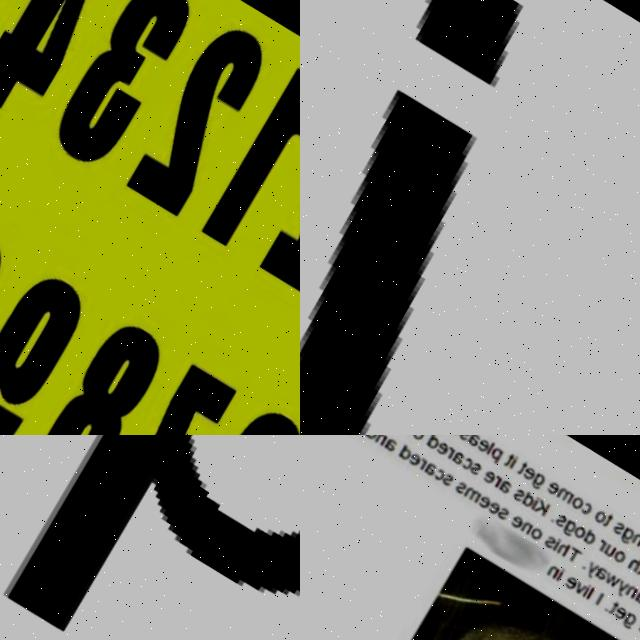1: (174, 51, 300, 266)
2: (101, 4, 295, 227)
3: (27, 0, 220, 181)
4: (0, 0, 149, 144)
5: (0, 0, 79, 92)
7: (55, 340, 259, 435)
8: (0, 298, 188, 435)
9: (0, 241, 115, 435)
A: (379, 437, 397, 456), (420, 463, 437, 480), (495, 481, 511, 498), (448, 453, 465, 469), (589, 569, 605, 585), (463, 435, 480, 450), (628, 594, 640, 610)
C: (575, 505, 593, 521), (458, 459, 472, 473), (431, 470, 445, 484)
D: (578, 532, 596, 551), (517, 493, 534, 511), (395, 446, 413, 463), (423, 435, 440, 452), (361, 435, 378, 442)
E: (404, 453, 422, 470), (542, 484, 559, 501), (473, 440, 490, 457), (607, 609, 624, 626), (518, 468, 534, 485), (479, 472, 495, 489), (432, 442, 448, 459), (505, 517, 522, 533), (484, 502, 500, 519), (474, 497, 491, 513), (558, 578, 574, 595), (630, 624, 640, 640), (445, 435, 462, 439)
G: (615, 615, 634, 635), (614, 531, 633, 549), (527, 475, 545, 494), (557, 522, 575, 541)
H: (622, 560, 639, 578), (552, 544, 568, 561)
I: (300, 0, 627, 435), (506, 459, 518, 473), (526, 500, 537, 513), (577, 588, 588, 601), (589, 597, 600, 610), (551, 572, 561, 585), (548, 542, 558, 554), (636, 568, 640, 581)
K: (530, 501, 548, 520)
L: (483, 444, 494, 458), (580, 590, 591, 604)
M: (553, 490, 573, 509), (459, 488, 480, 506)
N: (541, 567, 557, 584), (619, 588, 634, 603), (626, 536, 640, 551), (517, 524, 530, 538), (373, 435, 386, 447)
O: (566, 498, 583, 515), (608, 552, 624, 569), (589, 513, 605, 529), (568, 528, 584, 544), (525, 529, 540, 544), (408, 435, 424, 443), (635, 542, 640, 558)
P: (484, 449, 503, 467)
Q: (0, 435, 300, 640)
R: (442, 448, 456, 463), (592, 542, 605, 556), (414, 459, 427, 473), (489, 478, 501, 491)
S: (607, 524, 623, 541), (550, 516, 566, 532), (538, 537, 554, 553), (509, 490, 523, 505), (467, 464, 481, 479), (494, 509, 508, 524), (439, 475, 453, 490), (452, 483, 466, 497), (455, 435, 470, 443)
T: (560, 549, 580, 569), (501, 455, 514, 471), (597, 517, 610, 532), (514, 464, 526, 479), (603, 605, 615, 619), (630, 565, 640, 580)
U: (599, 547, 614, 562)
V: (567, 584, 583, 600)
W: (599, 575, 618, 593)
Y: (608, 583, 626, 603), (578, 564, 596, 584)
